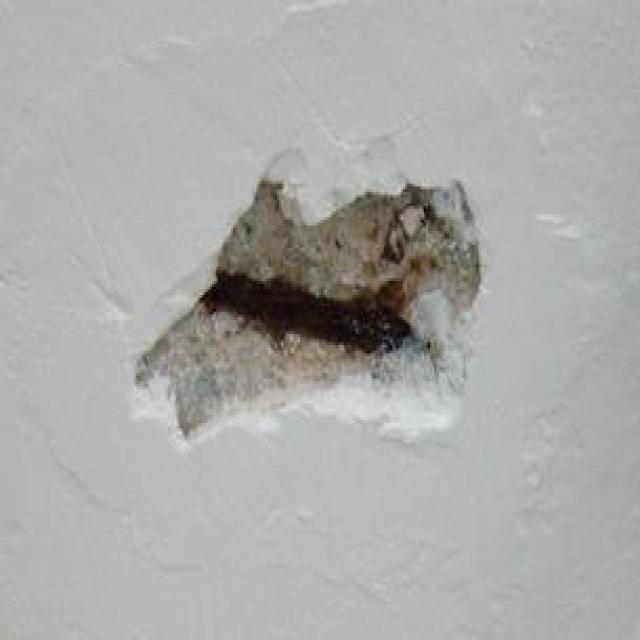Rebar: (128, 170, 481, 442)
